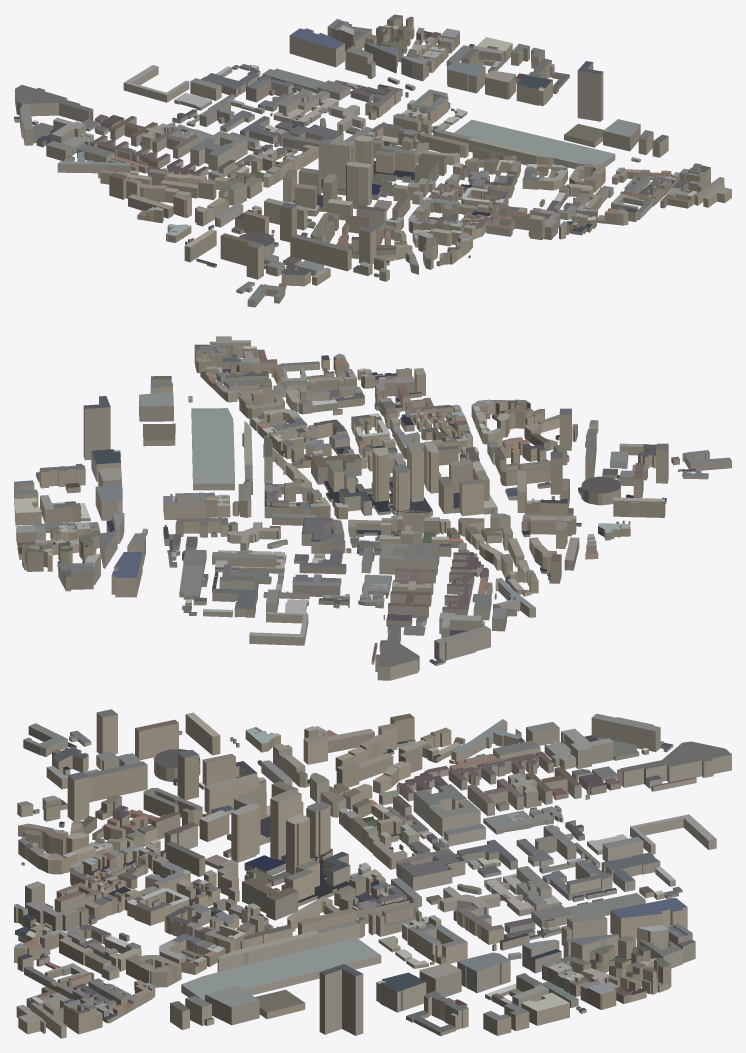
3 views of the same model, one above another, from view 1: azimuth 30°, elevation 25°; view 2: azimuth 150°, elevation 25°; view 3: azimuth 270°, elevation 25° (orthographic). The views are drawn at different scales.
Parts seen in each view (by area): view 1: tuile; view 2: tuile; view 3: tuile.
Boxes of the visible parts, x1,y1,x2,y2 form: tuile: (14,14,731,307); tuile: (14,336,731,680); tuile: (14,709,731,1038).
Size of the model in its own units: 1057 by 113 by 1065.
